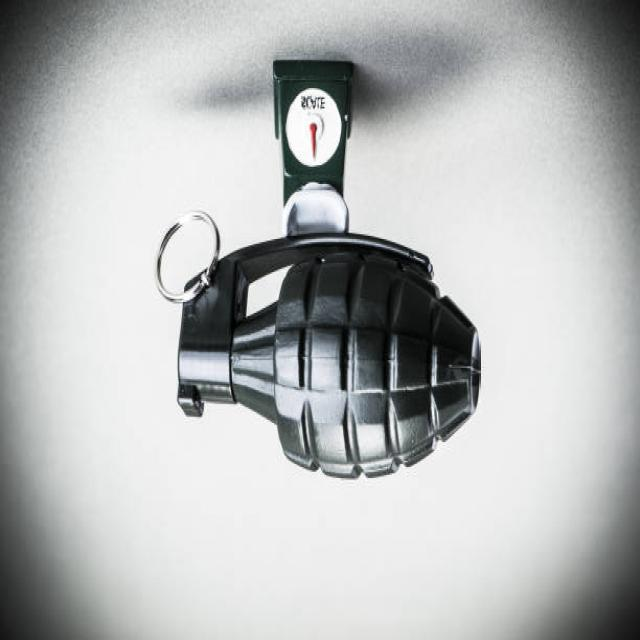grenade: (152, 212, 495, 493)
